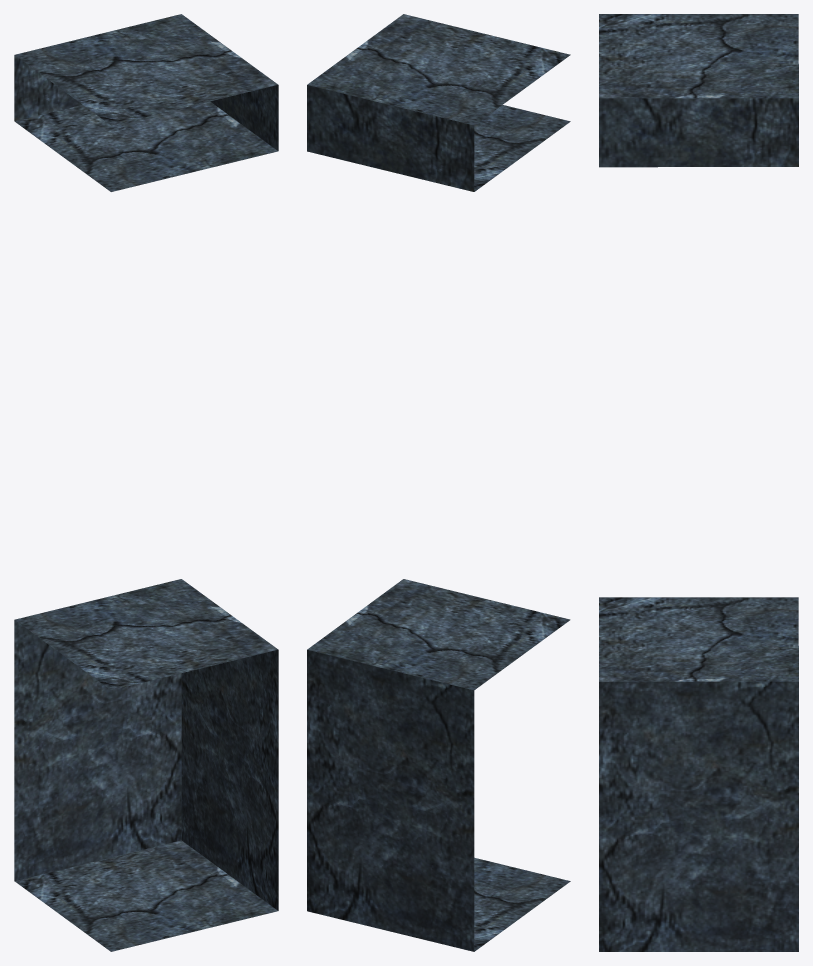
Rendered from CornerFence_part.FBX.
3 views of the same model, side by side, from view 1: azimuth 30°, elevation 25°; view 2: azimuth 150°, elevation 25°; view 3: azimuth 270°, elevation 25° (orthographic). The views are drawn at different scales.
Parts seen in each view (by area): view 1: CornerFence_part; view 2: CornerFence_part; view 3: CornerFence_part.
Part boxes in pixels (x1,y1,x2,y2): CornerFence_part: [14, 14, 278, 951]; CornerFence_part: [307, 14, 570, 951]; CornerFence_part: [599, 14, 798, 951].
Bounding box in the file's own units: 3.94 × 18.57 × 3.94.
Materials: 1 (1 with a texture image).
